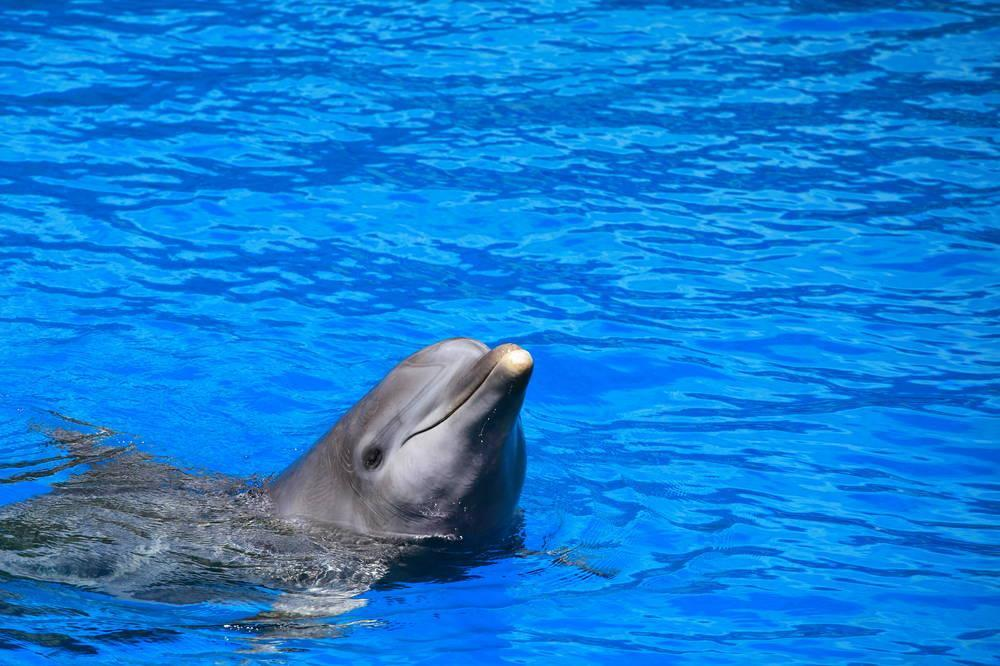fish: (4, 331, 531, 644)
